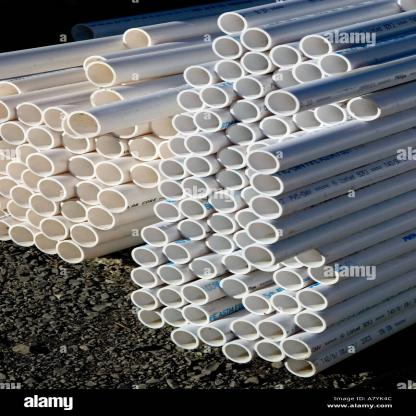PVC: (2, 1, 415, 379)
